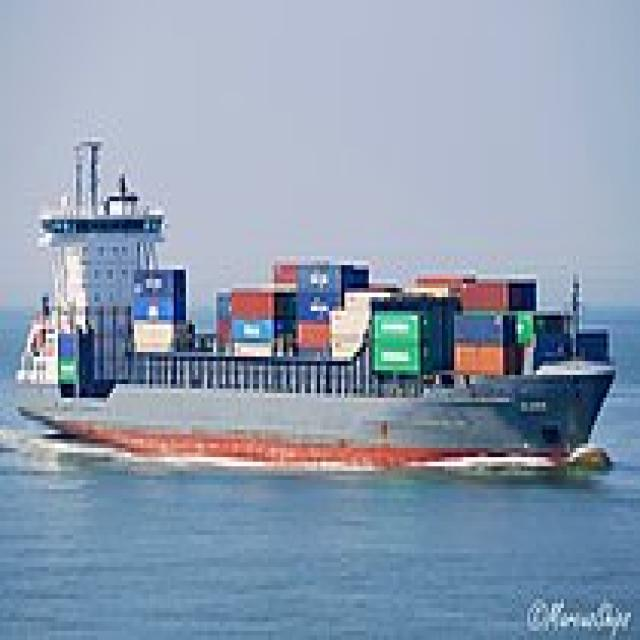Cargo: (6, 128, 619, 466)
